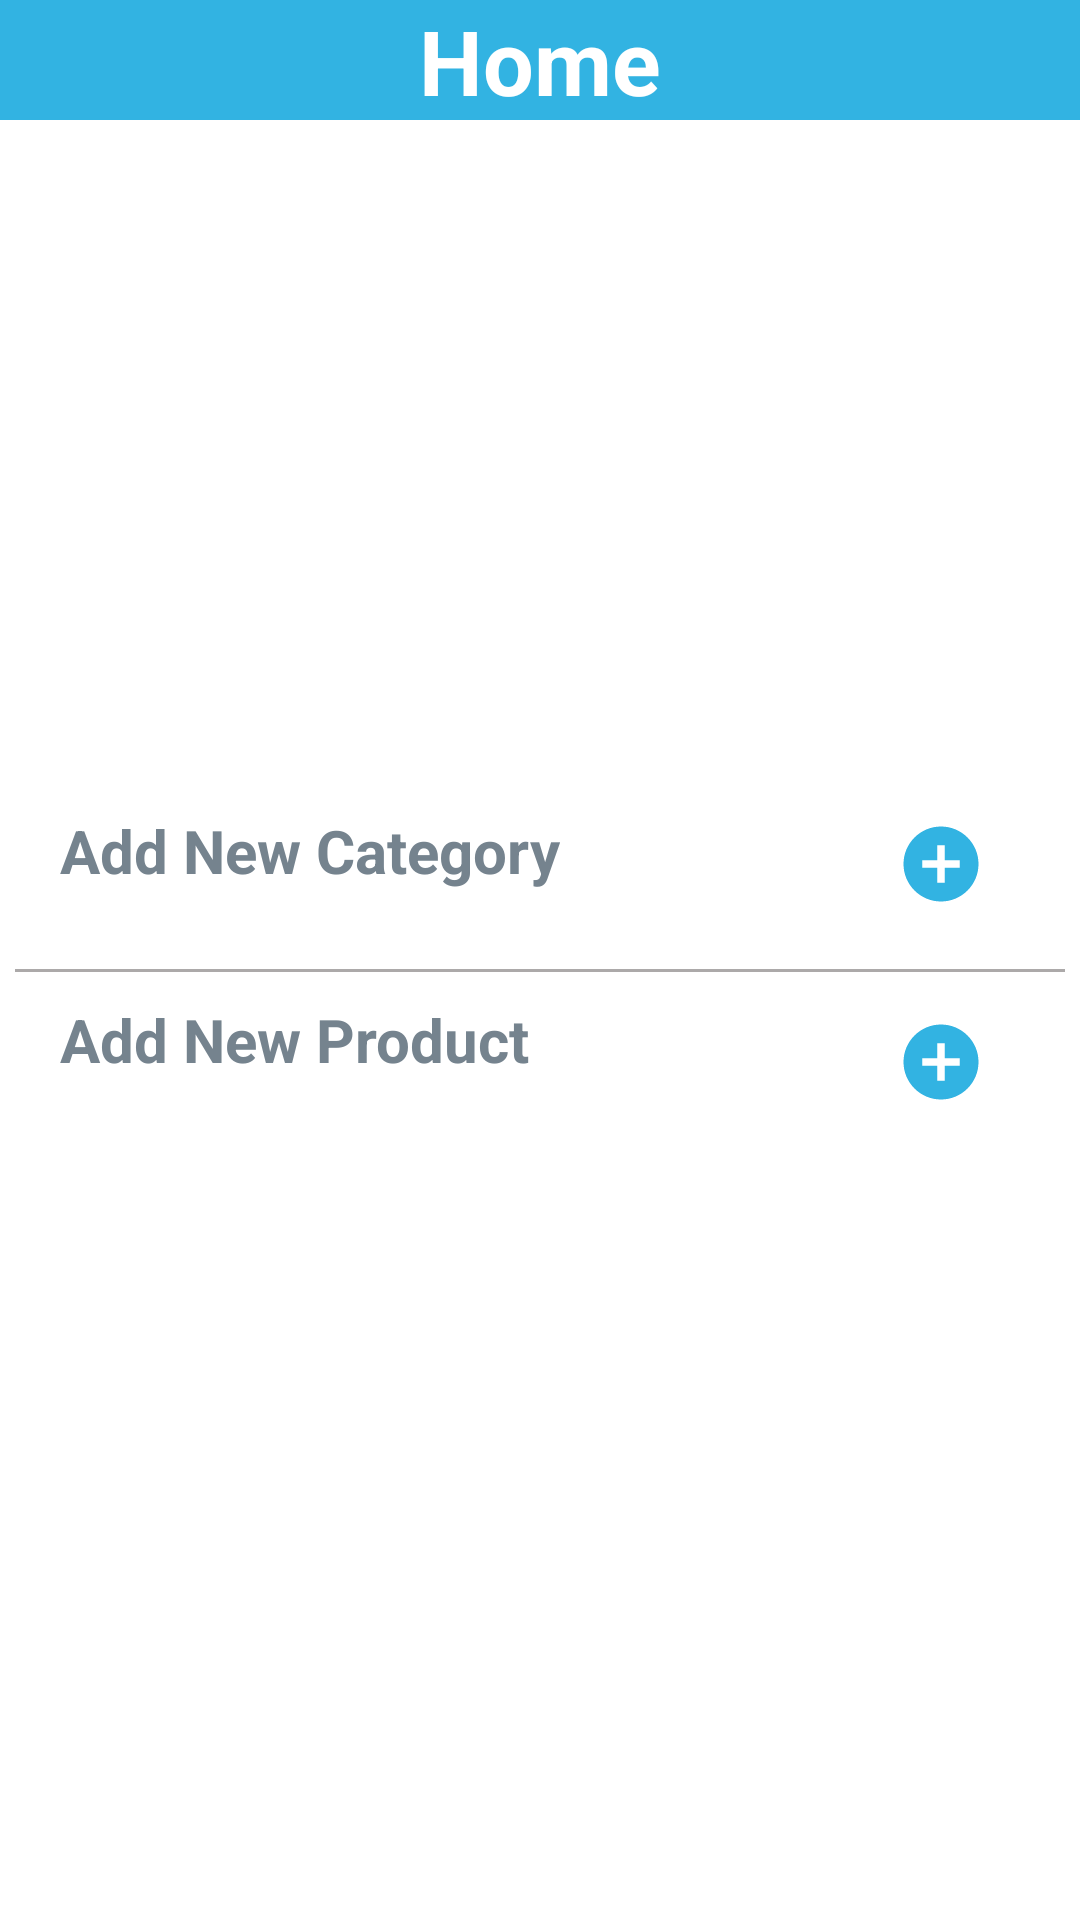

Named icons in this screenshot (1080px×1920px) and their bounding boxes, [x1, y1, x2, y2]:
add circle: [903, 826, 979, 902], [903, 1024, 979, 1100]
